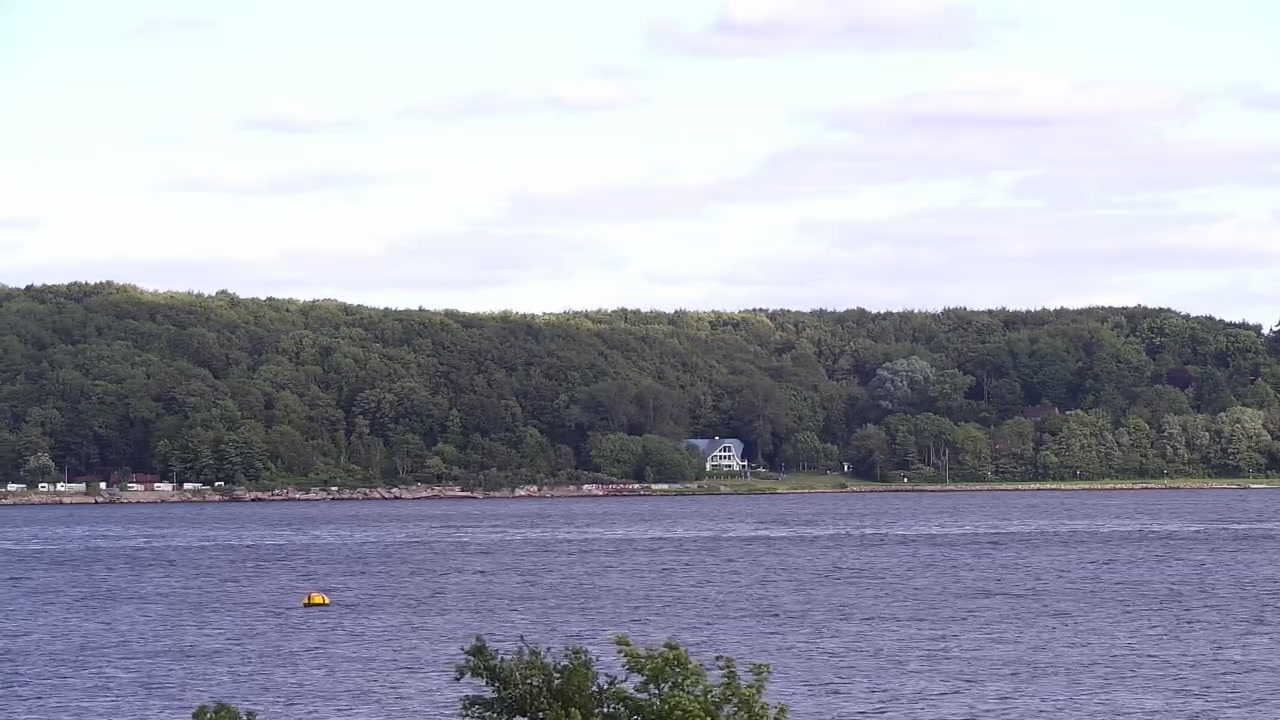land: (54, 481, 87, 494), (6, 482, 28, 493), (153, 482, 174, 491), (183, 482, 203, 491), (37, 482, 53, 492), (125, 483, 145, 491), (214, 480, 225, 488)
